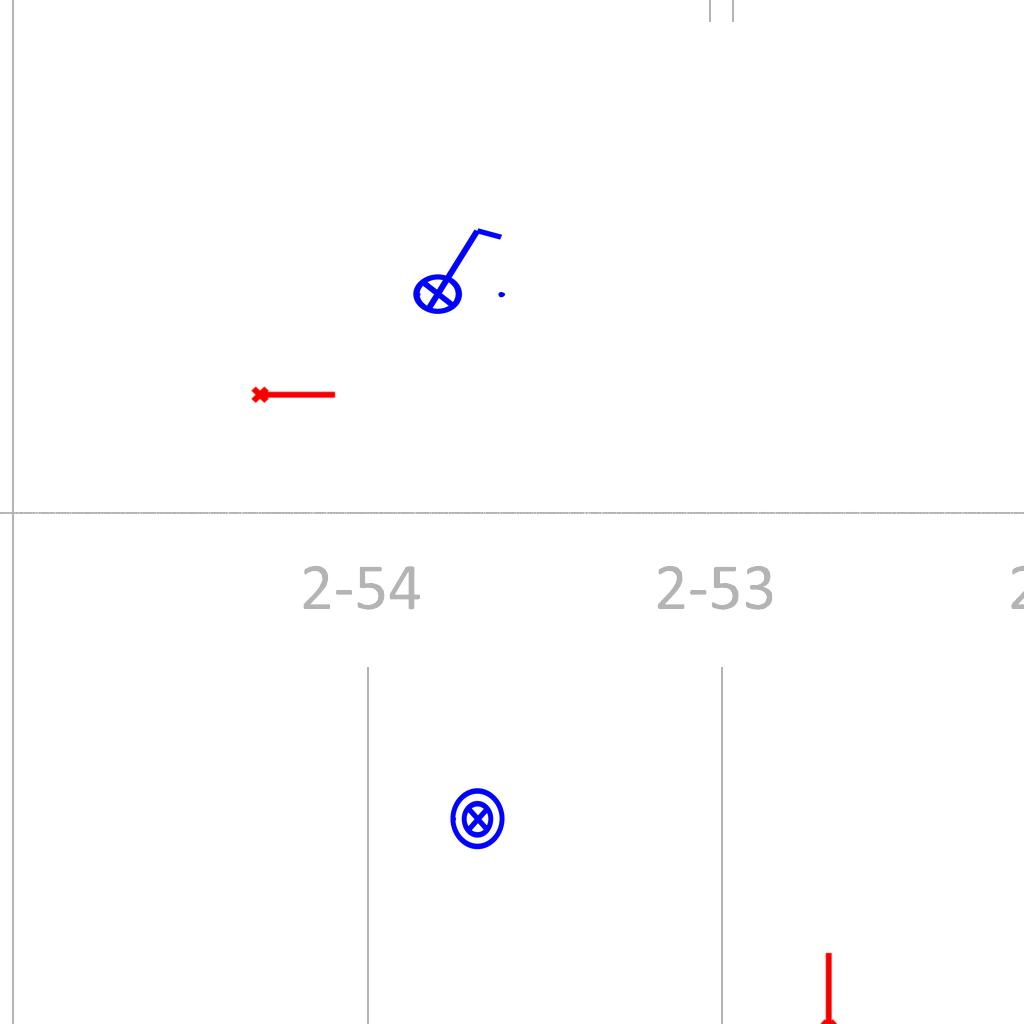ASR_Ansaugoeffnung: (250, 382, 338, 405), (816, 950, 839, 1024)
Ausschalter_beleuchtet: (399, 220, 511, 316)
Taster_beleuchtet: (445, 786, 511, 852)
